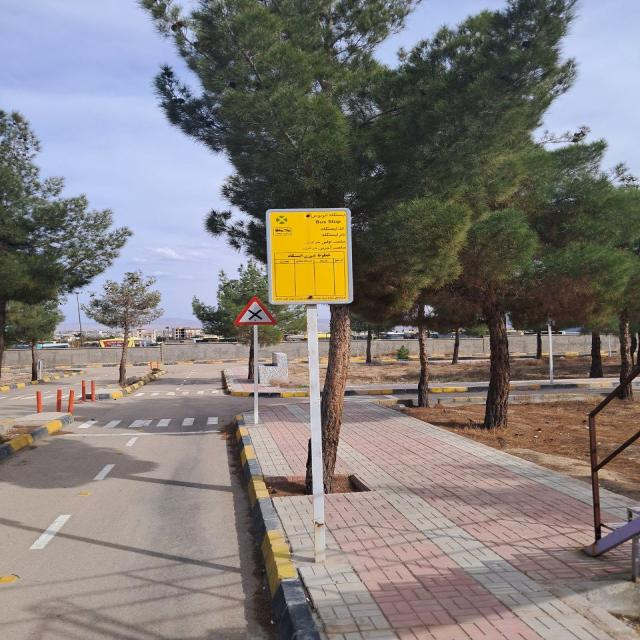bus station: (264, 205, 366, 307)
